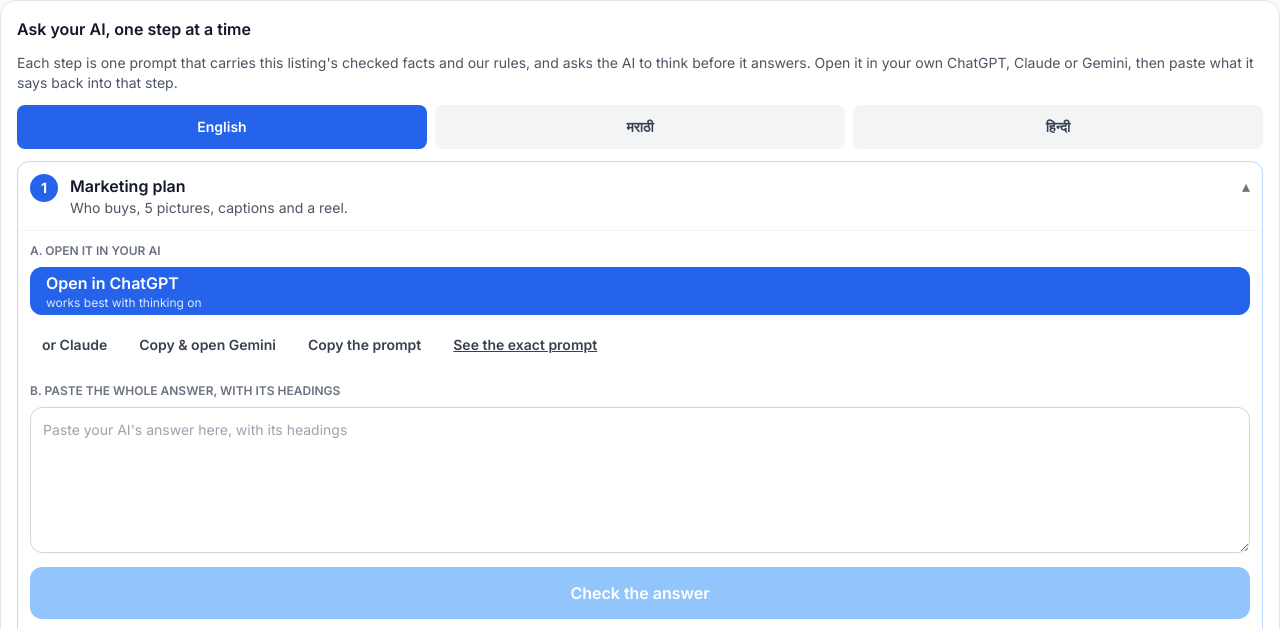
Scenario: says so when the pasted answer holds nothing to read
Type "sure! here you go" into the text box named "The answer to Marketing plan" at coordinates (640, 480), box [30,407,1250,553]
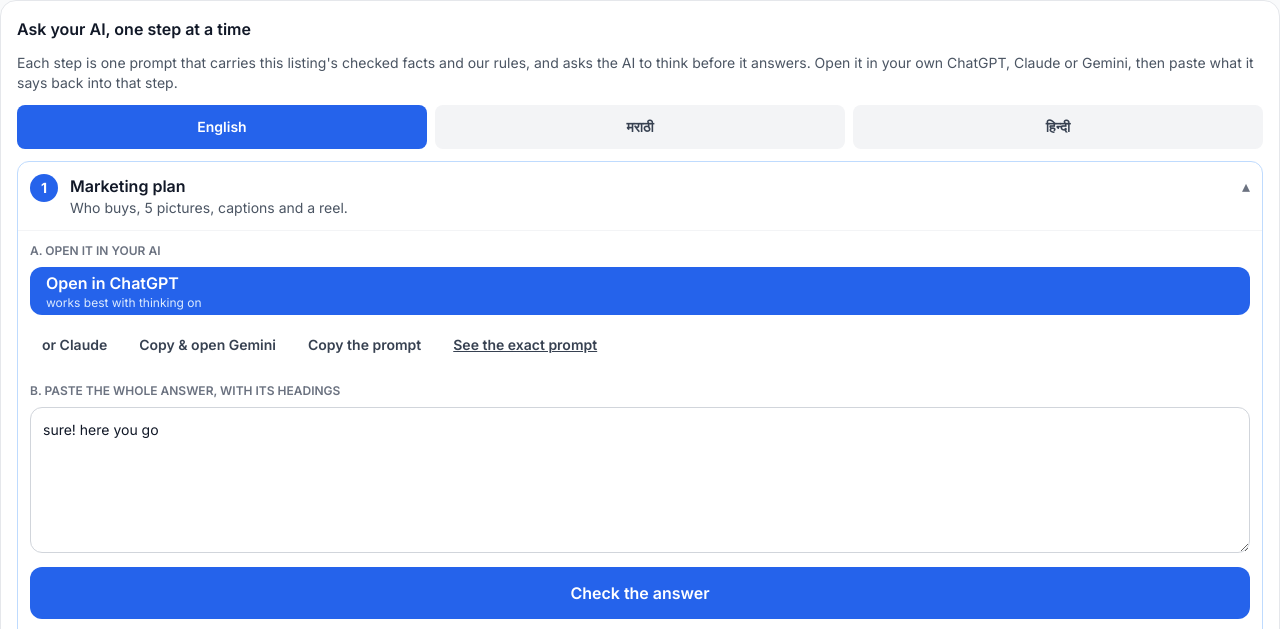
Click the button "Check the answer" at coordinates (640, 593), box [30,567,1250,619]
(page scrolled)
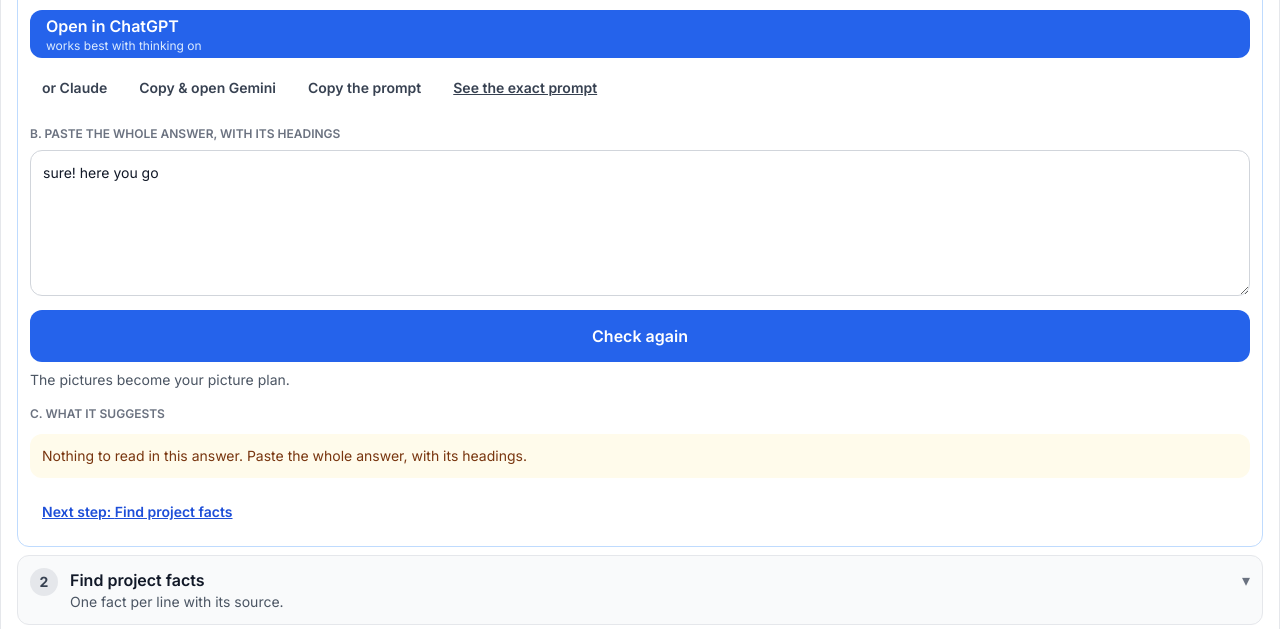
Check: the text "Nothing to read in this answer" is shown, box [42,447,527,464]
